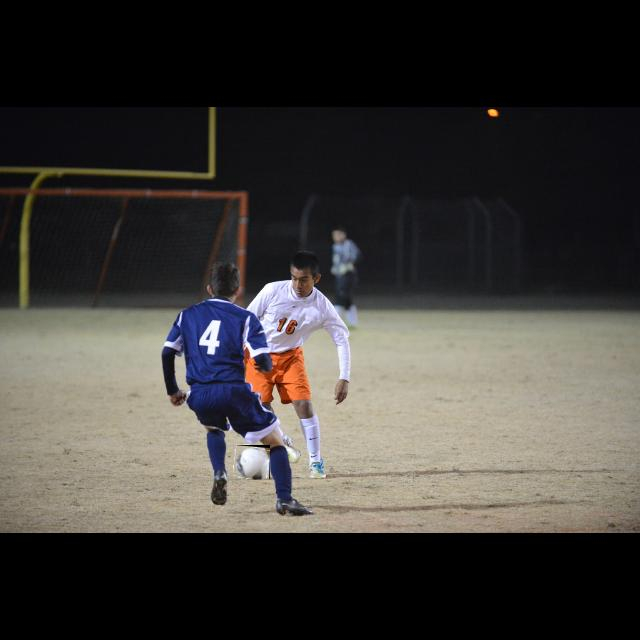Football: (234, 445, 270, 479)
